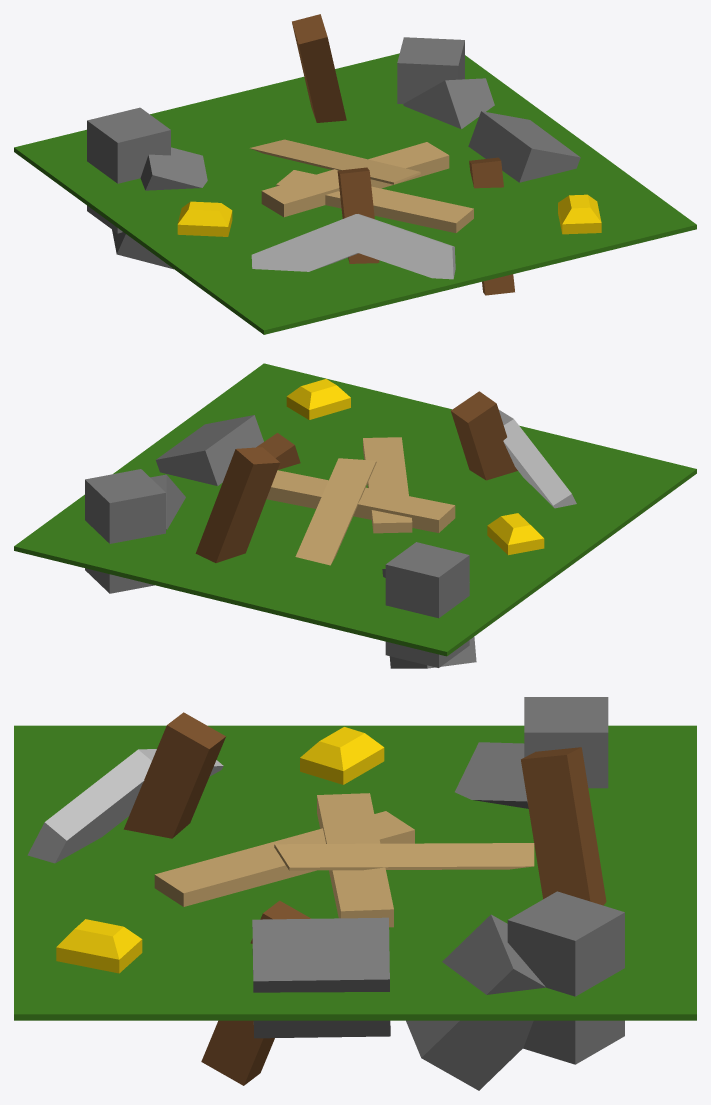
The model's file is broken_building_6x6.glb.
3 views of the same model, one above another, from view 1: azimuth 30°, elevation 25°; view 2: azimuth 150°, elevation 25°; view 3: azimuth 270°, elevation 25° (orthographic). The views are drawn at different scales.
Visible parts, largest first — view 1: Plane.001; view 2: Plane.001; view 3: Plane.001.
Boxes of the visible parts, left/top/right/bottom form: Plane.001: left=14, top=14, right=696, bottom=334; Plane.001: left=14, top=363, right=696, bottom=668; Plane.001: left=14, top=697, right=696, bottom=1090.
Bounding box in the file's own units: 6 × 2.76 × 6.
